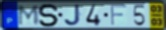4: (85, 3, 103, 27)
5: (133, 4, 147, 26)
F: (109, 4, 128, 27)
J: (63, 4, 83, 27)
M: (17, 5, 40, 26)
S: (37, 3, 61, 28)
